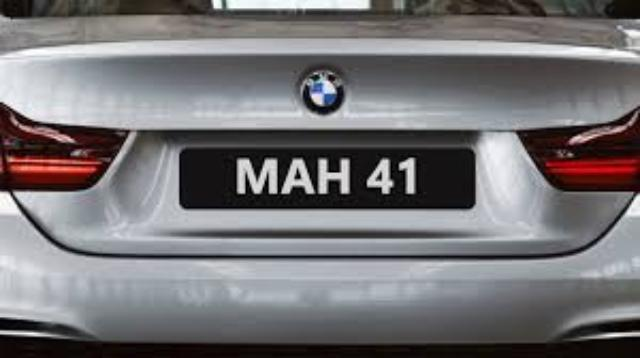License_Plate: (178, 135, 491, 238)
